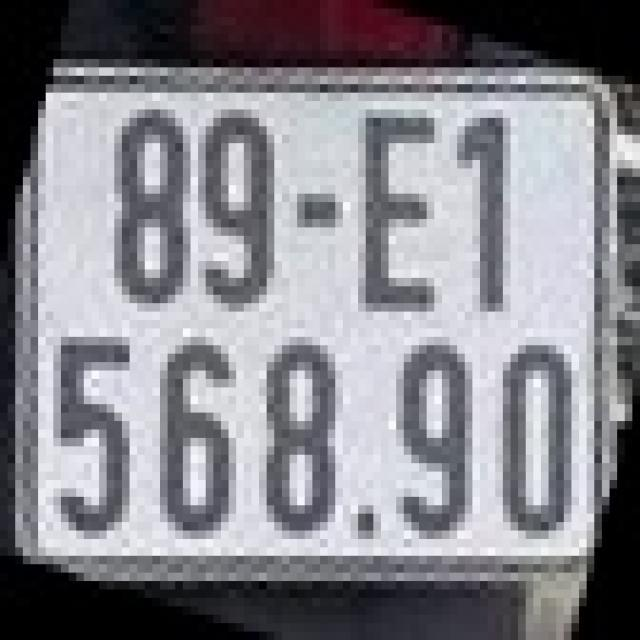0: (495, 337, 579, 530)
1: (457, 110, 518, 312)
5: (53, 328, 137, 530)
6: (152, 337, 236, 530)
8: (259, 337, 343, 530), (114, 110, 190, 304)
9: (198, 110, 282, 312), (388, 337, 472, 539)
E: (358, 110, 442, 312)
